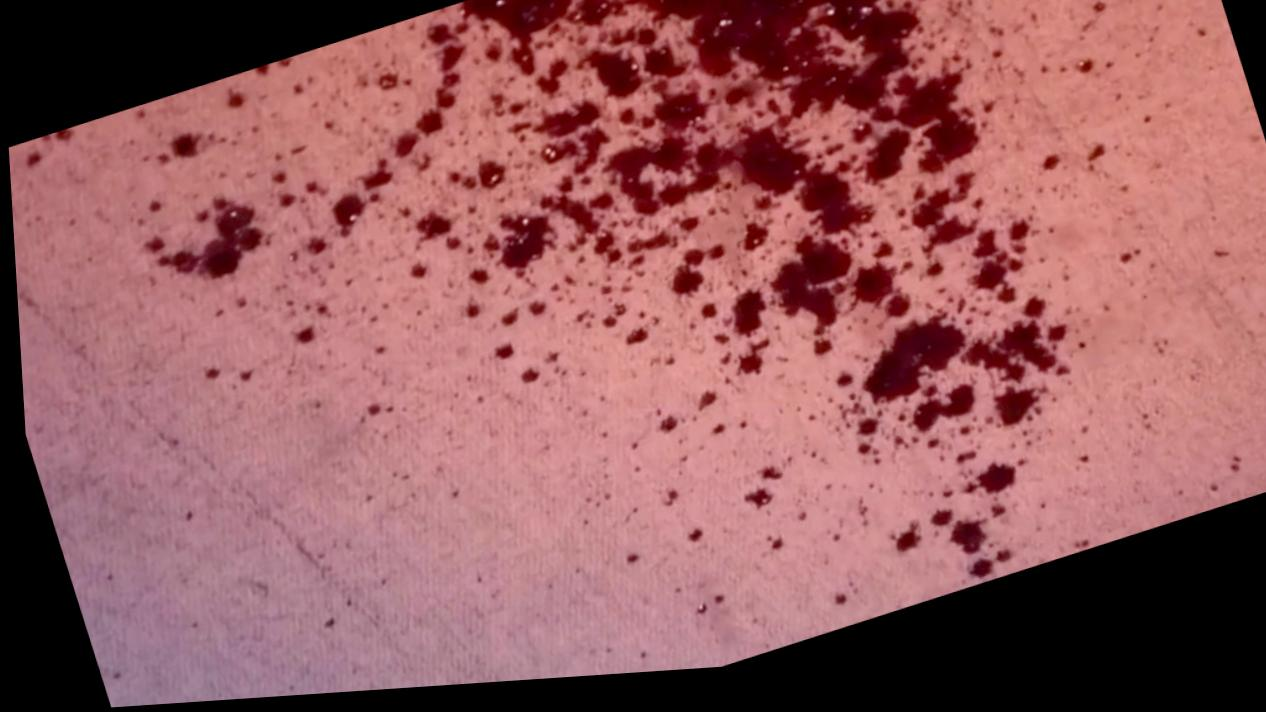Fire: (268, 0, 1059, 456), (924, 477, 1012, 571), (155, 208, 258, 282), (835, 430, 883, 480), (733, 473, 783, 521), (902, 413, 944, 450), (993, 406, 1034, 440), (791, 493, 835, 523), (795, 461, 829, 494), (887, 537, 916, 566), (658, 496, 682, 524), (170, 136, 196, 160), (962, 571, 987, 593), (740, 500, 767, 519), (944, 403, 971, 422), (1088, 159, 1106, 177), (695, 402, 712, 421), (292, 331, 310, 348), (406, 269, 424, 284), (657, 426, 673, 442), (517, 376, 534, 391), (492, 351, 508, 366), (1043, 169, 1058, 183), (887, 448, 903, 460), (761, 537, 774, 550)
